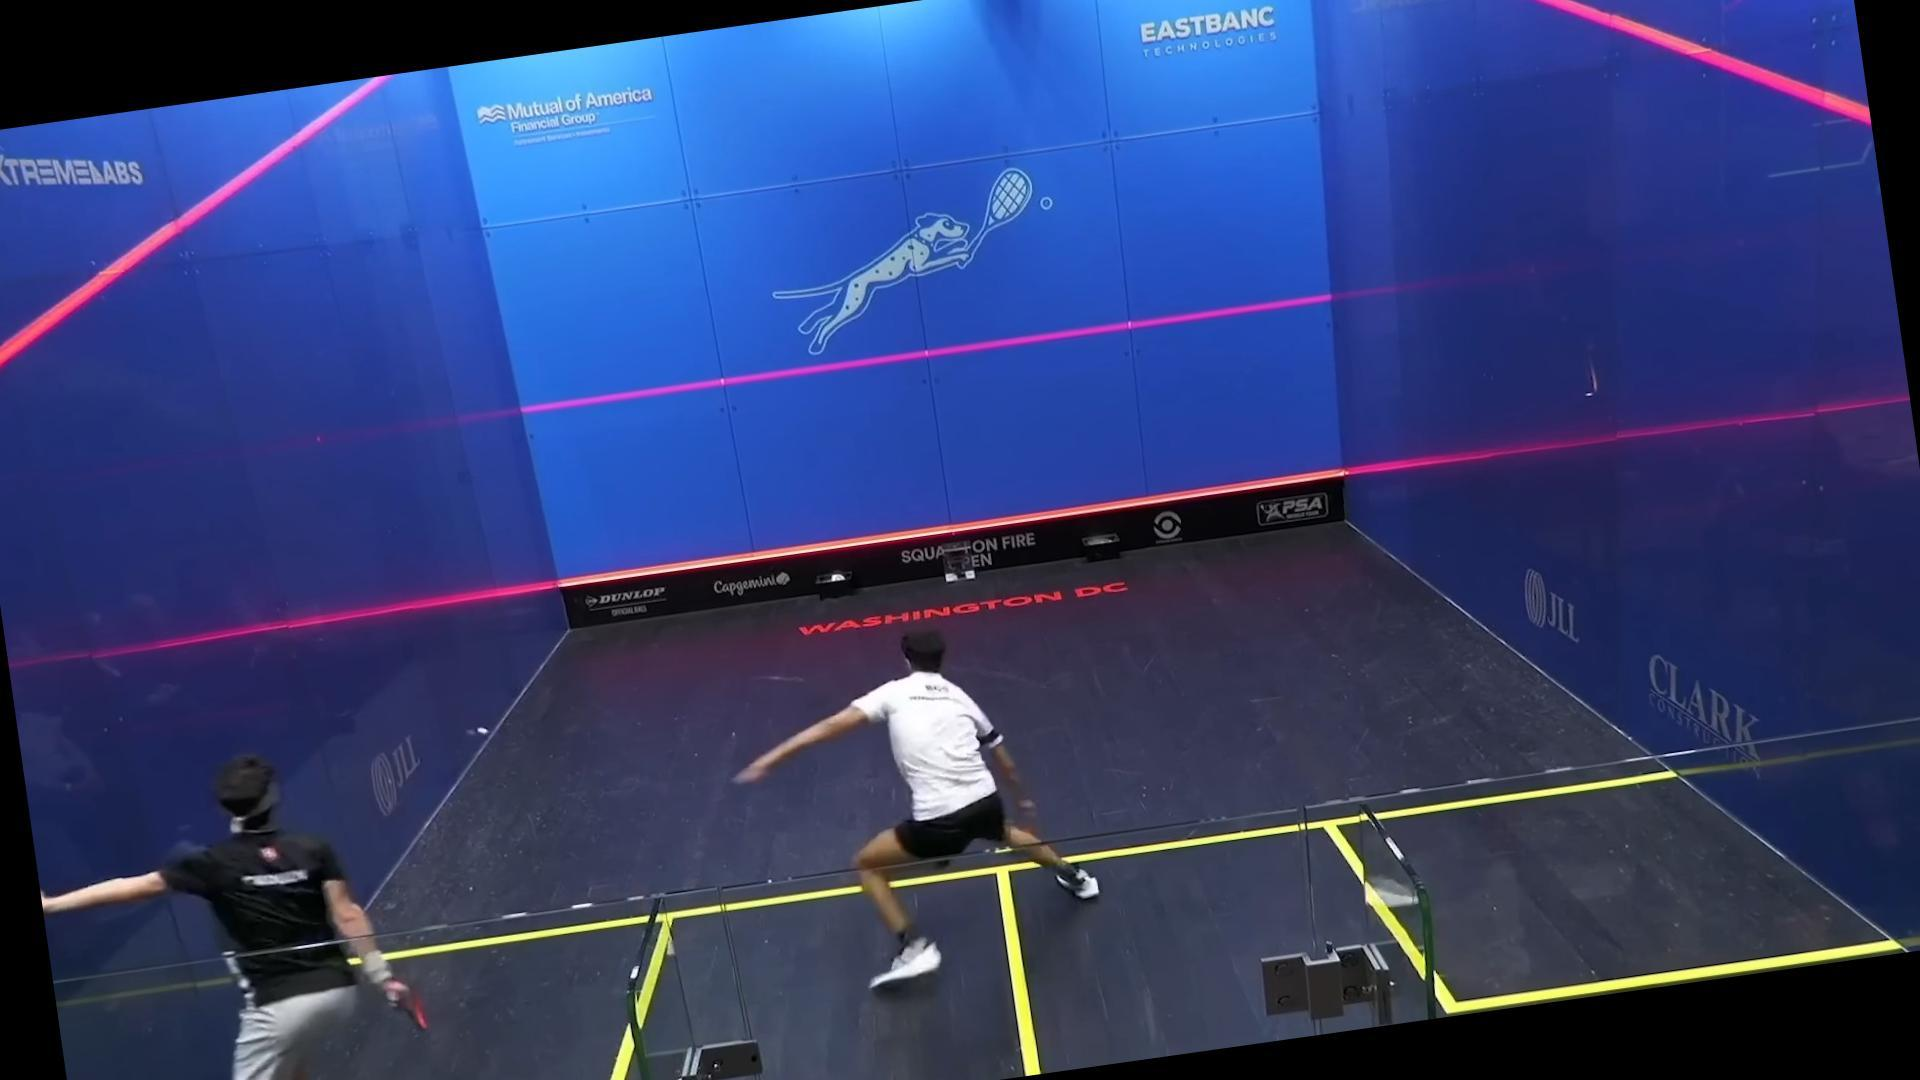Squash-Ball: (464, 713, 498, 748)
